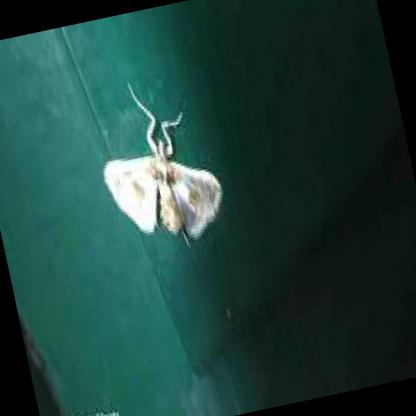leucinodes: (103, 104, 221, 238)
